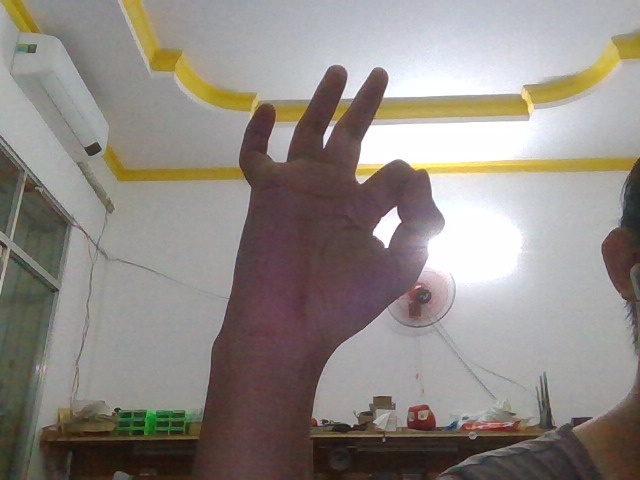okay: (180, 46, 466, 350)
